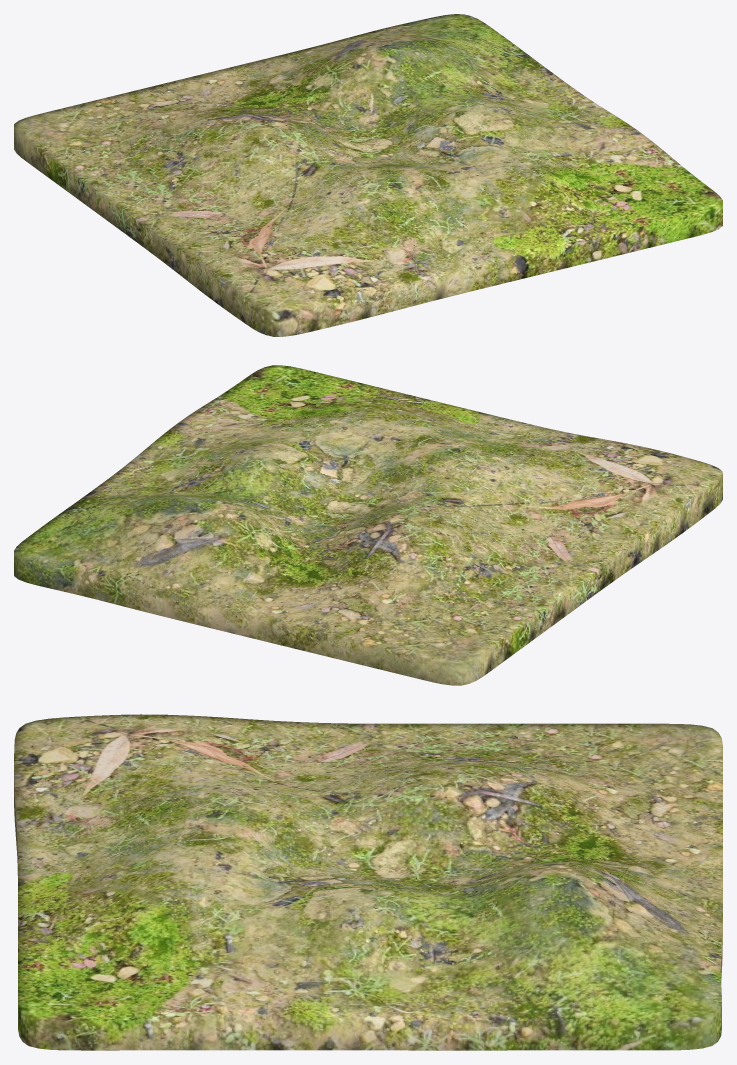
The model's file is ground.fbx.
The picture shows the model from 3 angles, top to bottom: view 1: azimuth 30°, elevation 25°; view 2: azimuth 150°, elevation 25°; view 3: azimuth 270°, elevation 25°; orthographic projection. The views are drawn at different scales.
Visible parts, largest first — view 1: Ground; view 2: Ground; view 3: Ground.
Boxes of the visible parts, <box> form: Ground: <box>14,14,722,336</box>; Ground: <box>14,365,722,685</box>; Ground: <box>14,714,722,1050</box>.
Size of the model in its own units: 201 by 25.15 by 201.
Materials: 1 (1 with a texture image).
